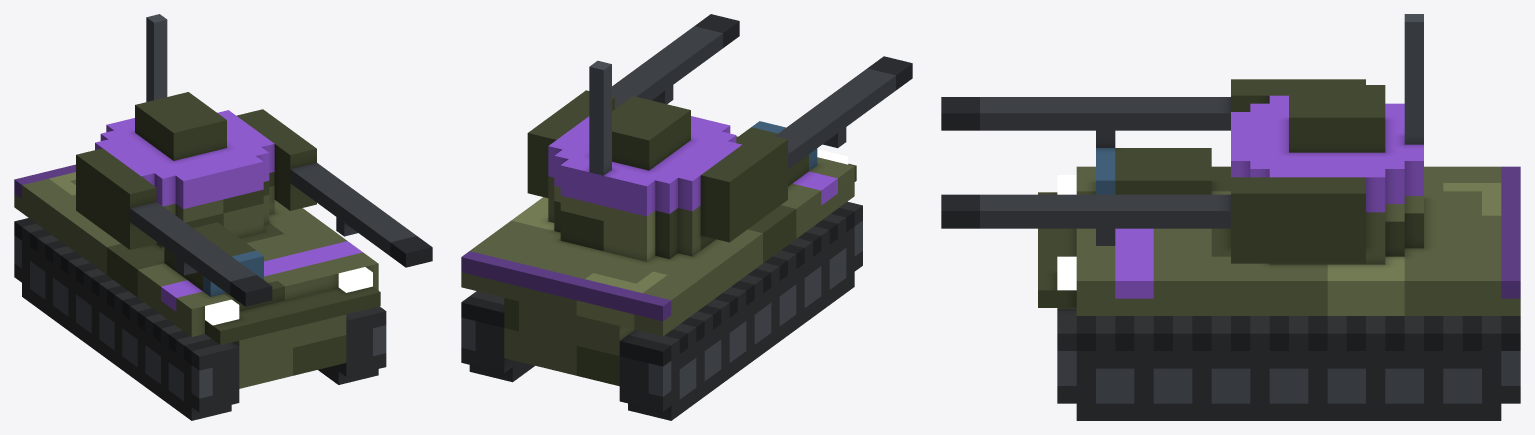
3 renders of one model, left to right at view 1: azimuth 30°, elevation 25°; view 2: azimuth 150°, elevation 25°; view 3: azimuth 270°, elevation 25°, orthographic. The views are drawn at different scales.
Parts seen in each view (by area): view 1: cm_aa_4_body; view 2: cm_aa_4_body; view 3: cm_aa_4_body.
Boxes of the visible parts, x1,y1,x2,y2 form: cm_aa_4_body: [14, 14, 432, 420]; cm_aa_4_body: [461, 14, 912, 420]; cm_aa_4_body: [941, 14, 1520, 420].
Size of the model in its own units: 0.875 by 1.25 by 1.88.
Materials: 1 (1 with a texture image).
